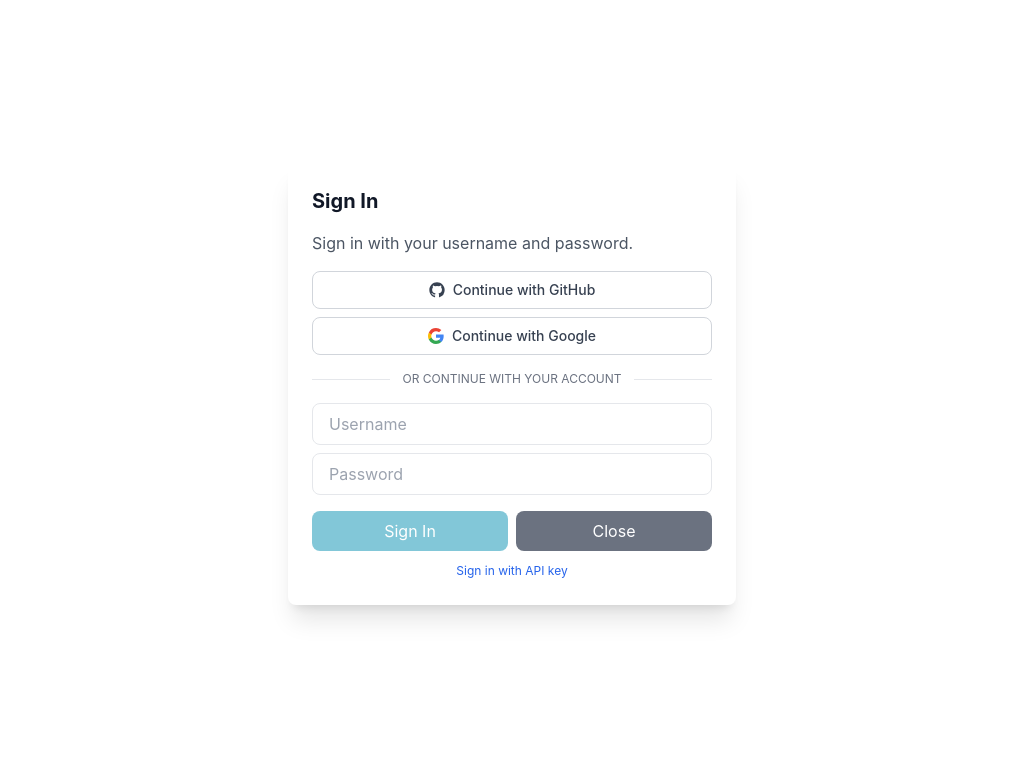
Test: LoginScreen › disables submit until username and password are filled
Expected: the button with test id "login-submit" is disabled, [312, 511, 508, 551]
Type "admin" into the field with test id "login-username" at (512, 424), box [312, 403, 712, 445]
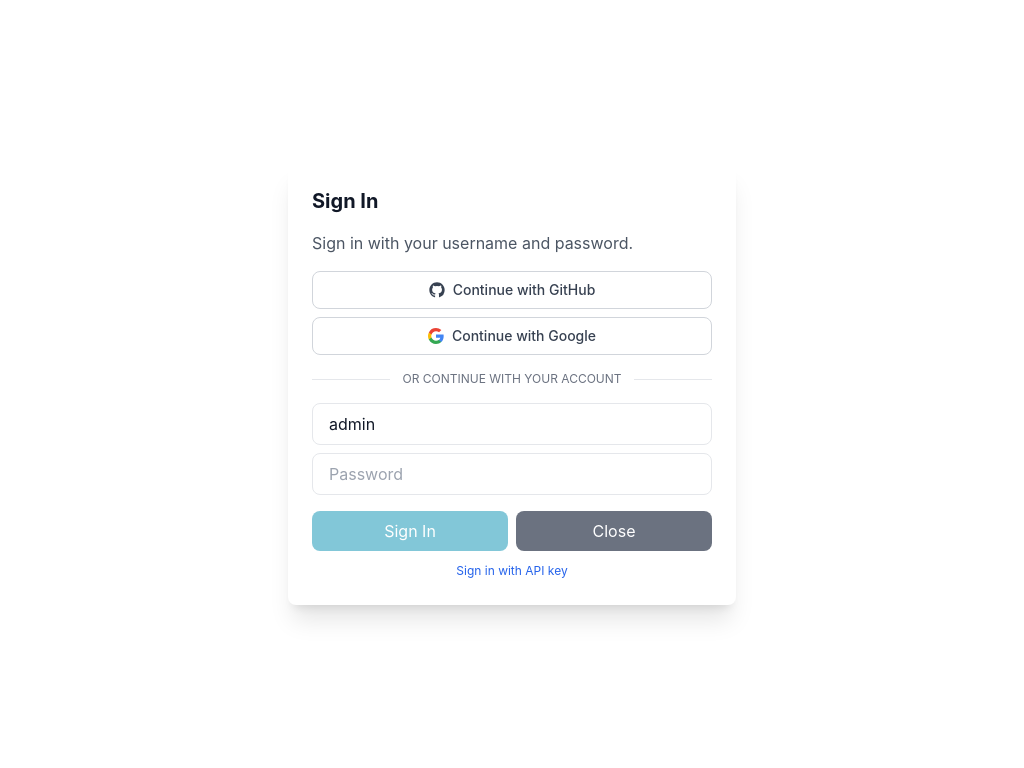
Expected: the button with test id "login-submit" is disabled, [312, 511, 508, 551]
Type "admin" into the password field with test id "login-password" at (512, 474), box [312, 453, 712, 495]
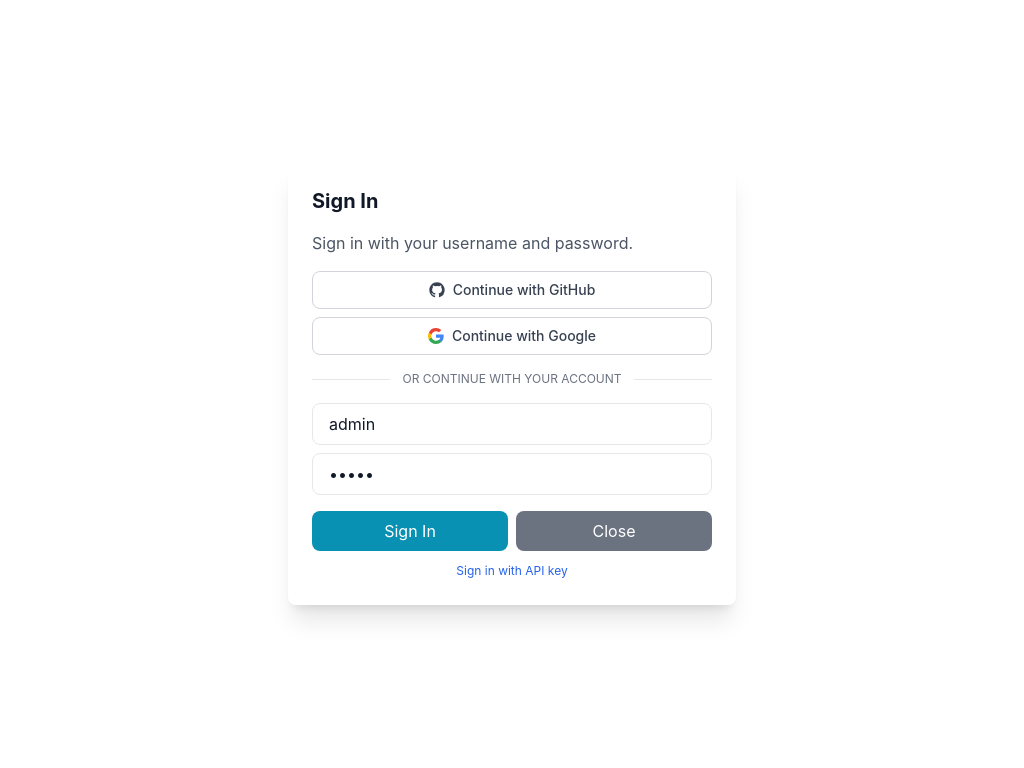
Expected: the button with test id "login-submit" is enabled, [312, 511, 508, 551]
